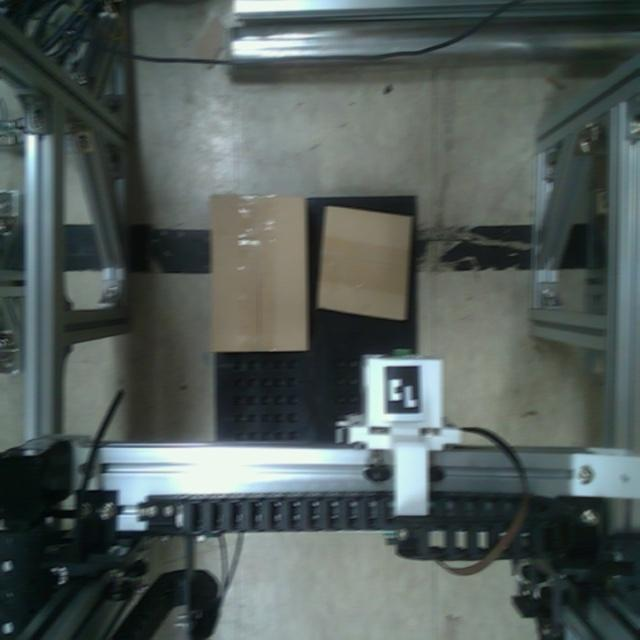box: (207, 190, 313, 356), (313, 198, 417, 326)
